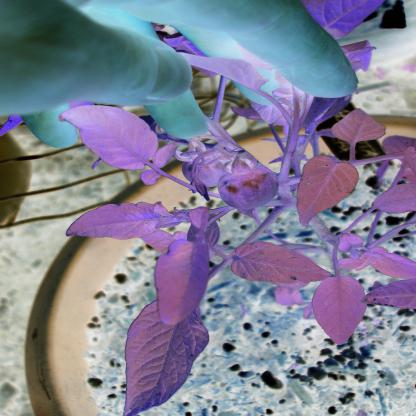tomato leaf: (107, 293, 234, 416), (56, 97, 170, 184), (220, 237, 333, 296), (50, 187, 150, 252), (281, 154, 370, 219), (304, 271, 374, 352), (152, 238, 209, 331), (346, 240, 416, 282)
